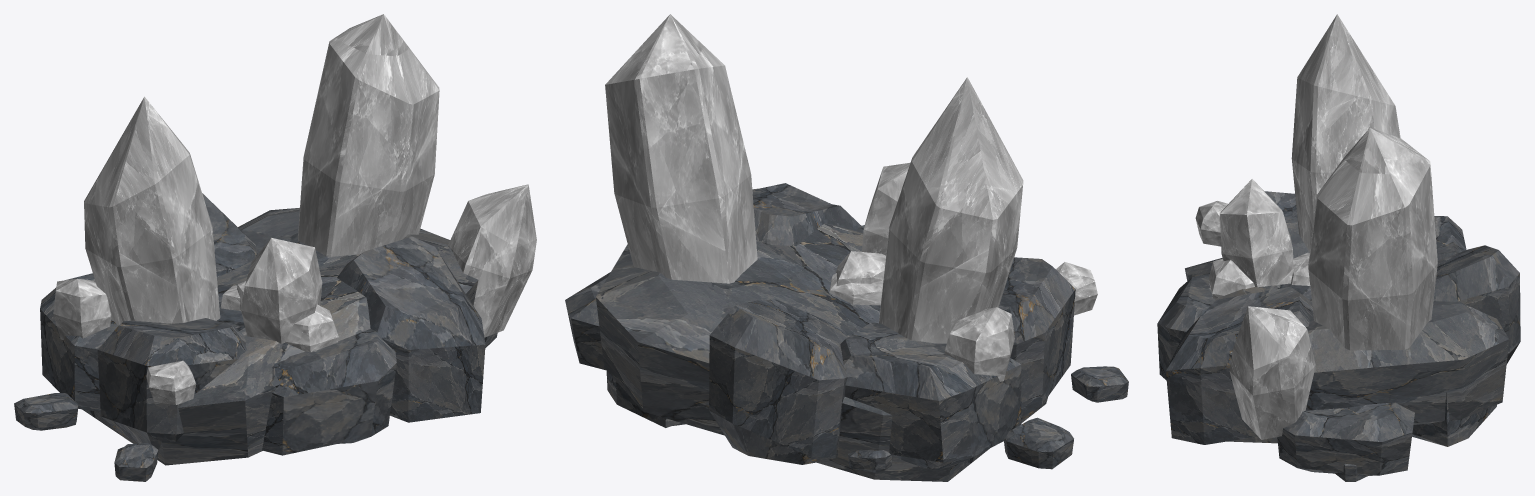
Rendered from Ore_P1.fbx.
The picture shows the model from 3 angles, left to right: view 1: azimuth 30°, elevation 25°; view 2: azimuth 150°, elevation 25°; view 3: azimuth 270°, elevation 25°; orthographic projection. The views are drawn at different scales.
Parts seen in each view (by area): view 1: Ore_P1_LOD0; view 2: Ore_P1_LOD0; view 3: Ore_P1_LOD0.
Part boxes in pixels (x1,y1,x2,y2): Ore_P1_LOD0: (14, 14, 536, 481); Ore_P1_LOD0: (565, 14, 1128, 481); Ore_P1_LOD0: (1157, 14, 1520, 481).
Size of what is drawn, in the model's own units: 1.47 by 1.04 by 1.04.
2 materials, 2 textured.
